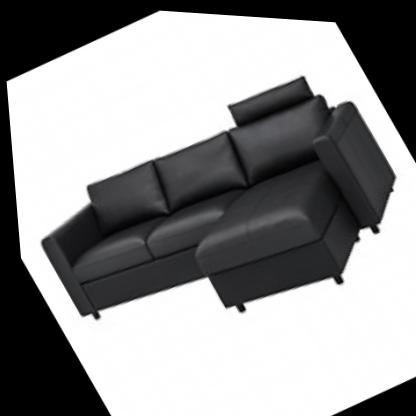Sofa: (1, 22, 416, 411)
